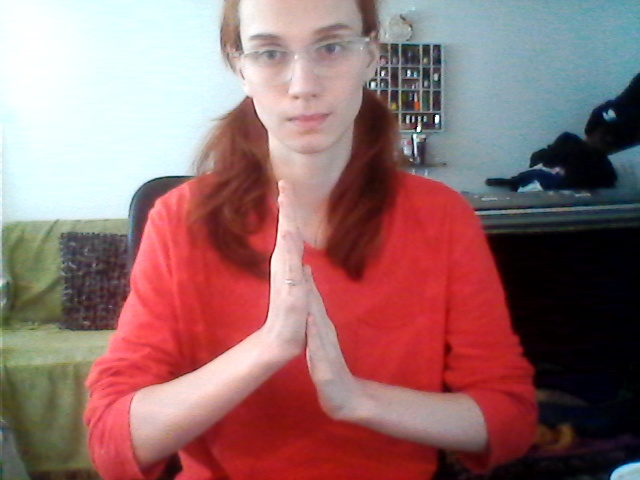prosim: (217, 180, 401, 442)
